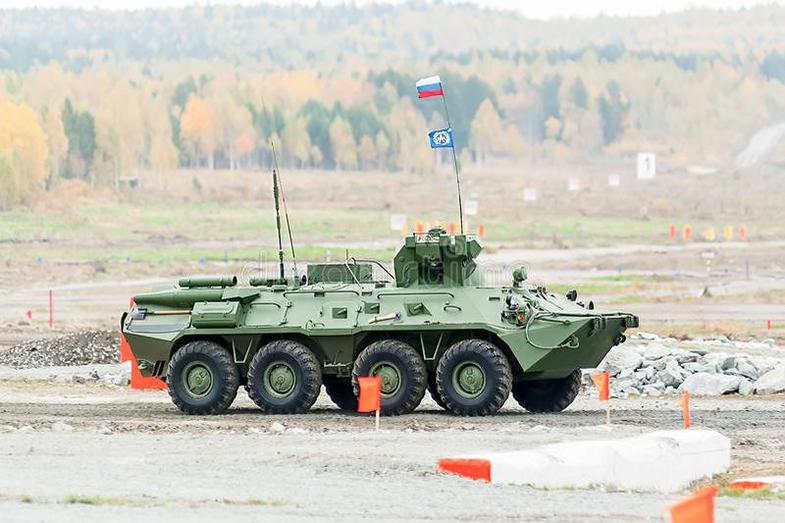btr: (123, 256, 635, 413)
